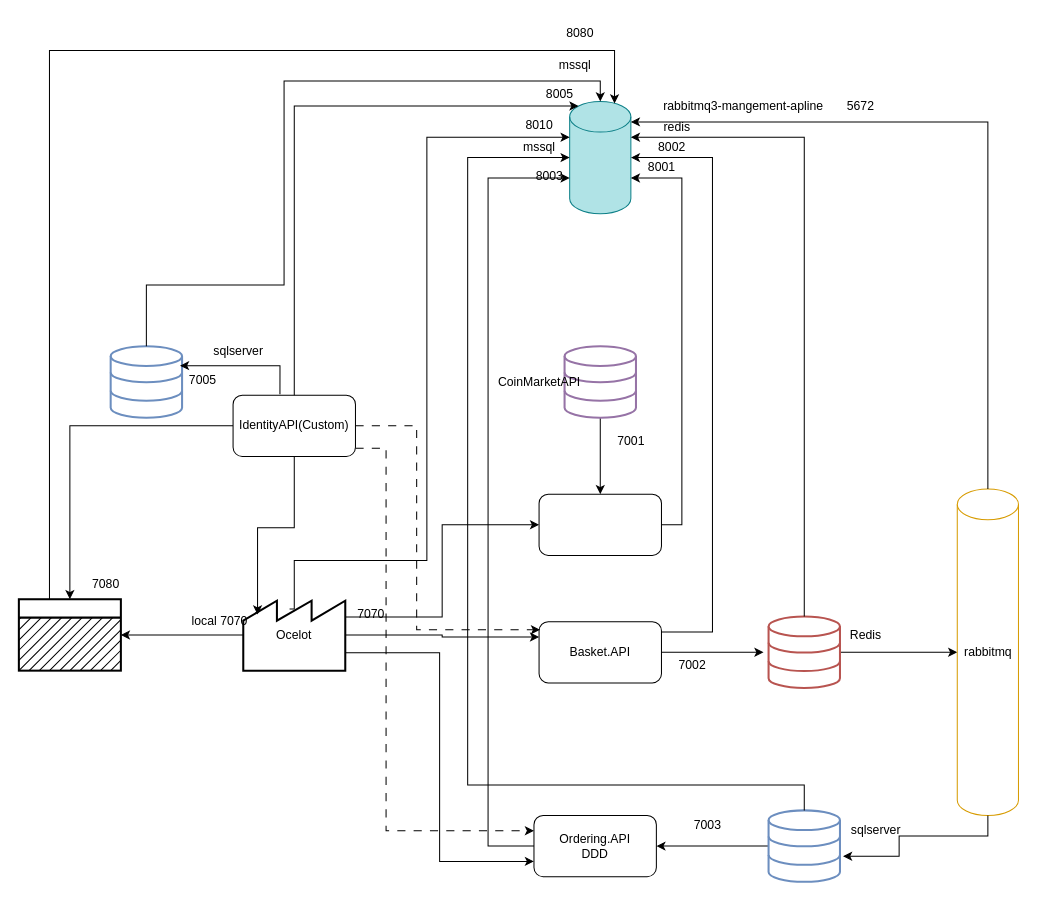
This 1040x900 diagram has some shape labels left out. The centre of each missing label's shape, as x and y in pixels:
Coin.API: pixel 599 524
Docker: pixel 600 157
WeAPP: pixel 69 634
